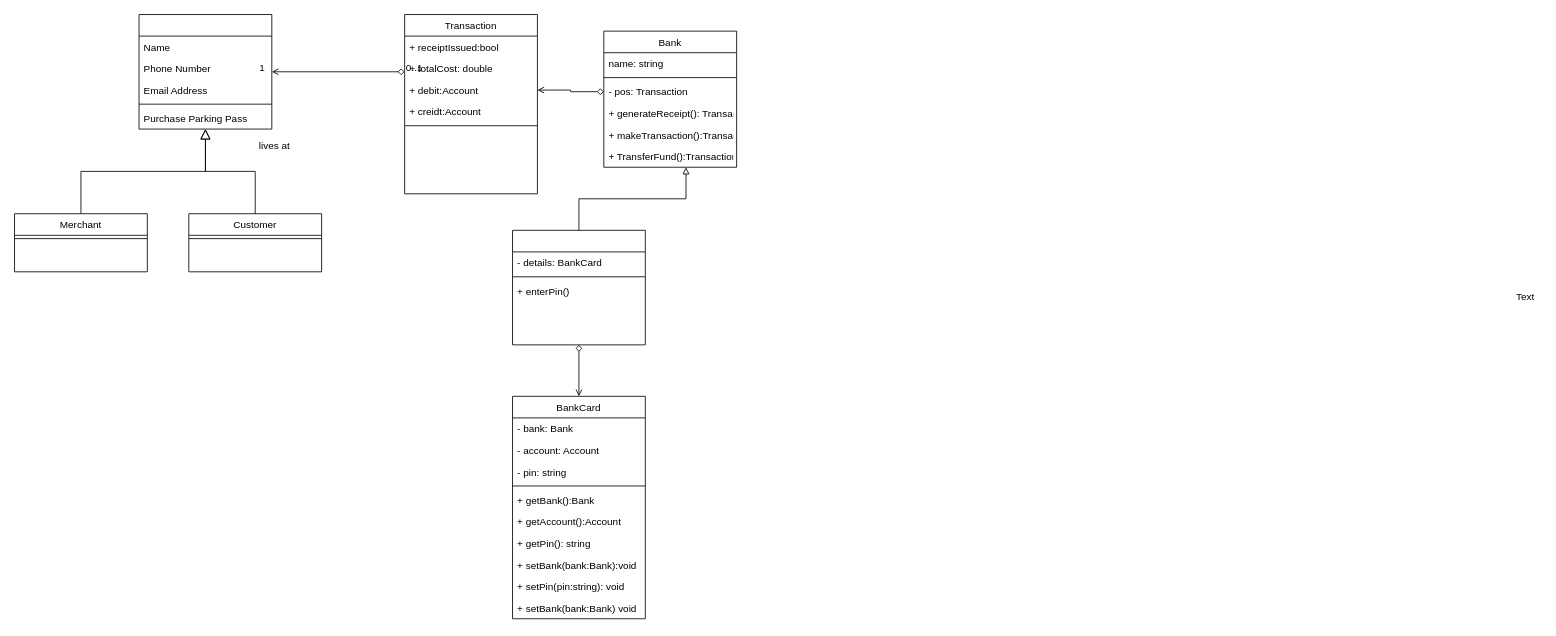
Image size: 1556x636. Some labels were removed from this diagram. Here are the shapes that lost their labels. From the top down, the box of each, then its label:
(138, 14, 272, 129): Account
(512, 229, 645, 345): POS
